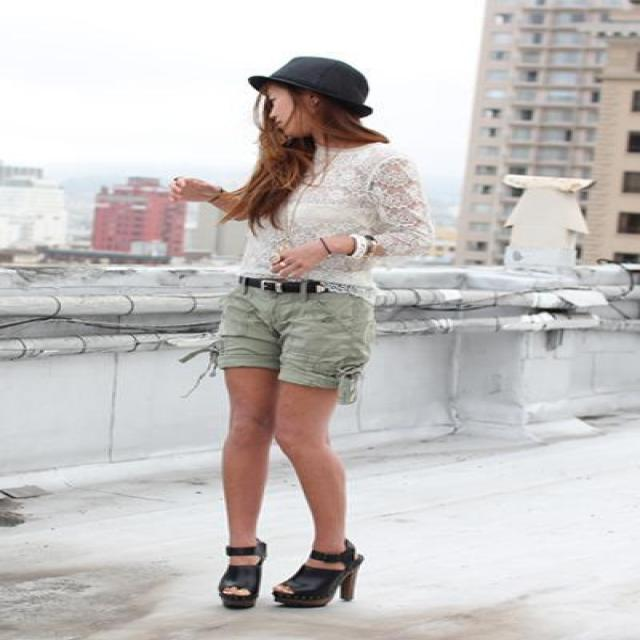hat: (250, 57, 368, 114)
shirt: (232, 143, 424, 292)
shoe: (219, 543, 360, 609)
shorts: (198, 276, 390, 389)
